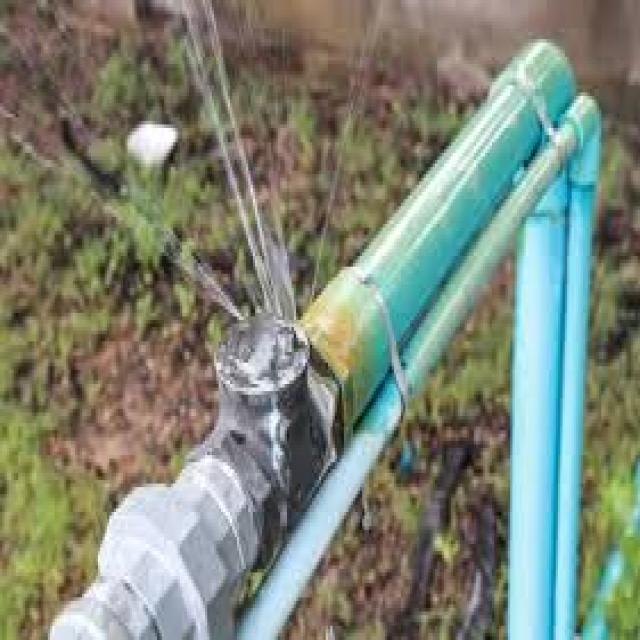pipe burst: (0, 1, 392, 330)
